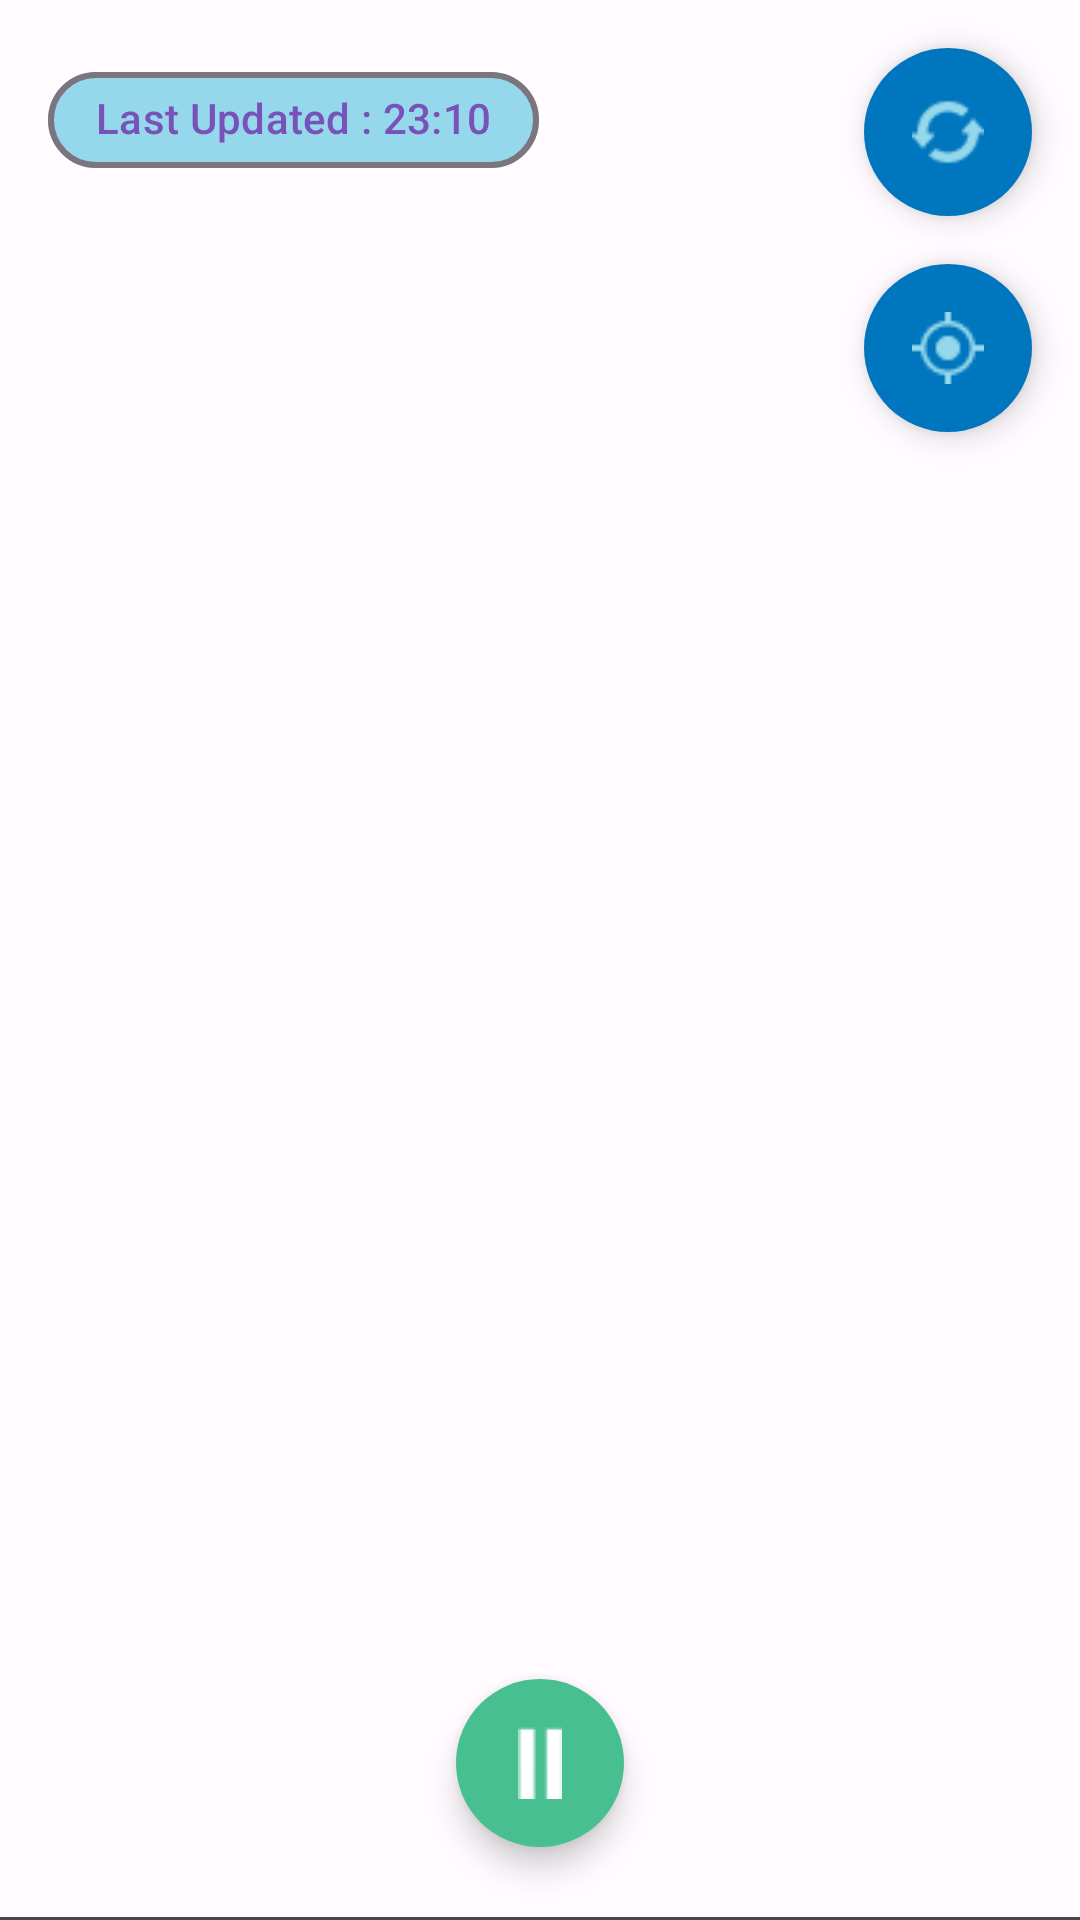

Screen size 1080x1920. Icon name, then its box in pixels as [x1,y1,x2,y2]:
detect: [864,264,1032,432]
pause: [456,1679,624,1847]
refresh: [864,48,1032,216]
